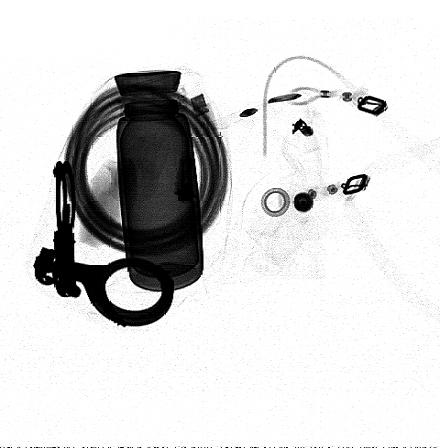HandCuffs: (33, 159, 174, 327)
